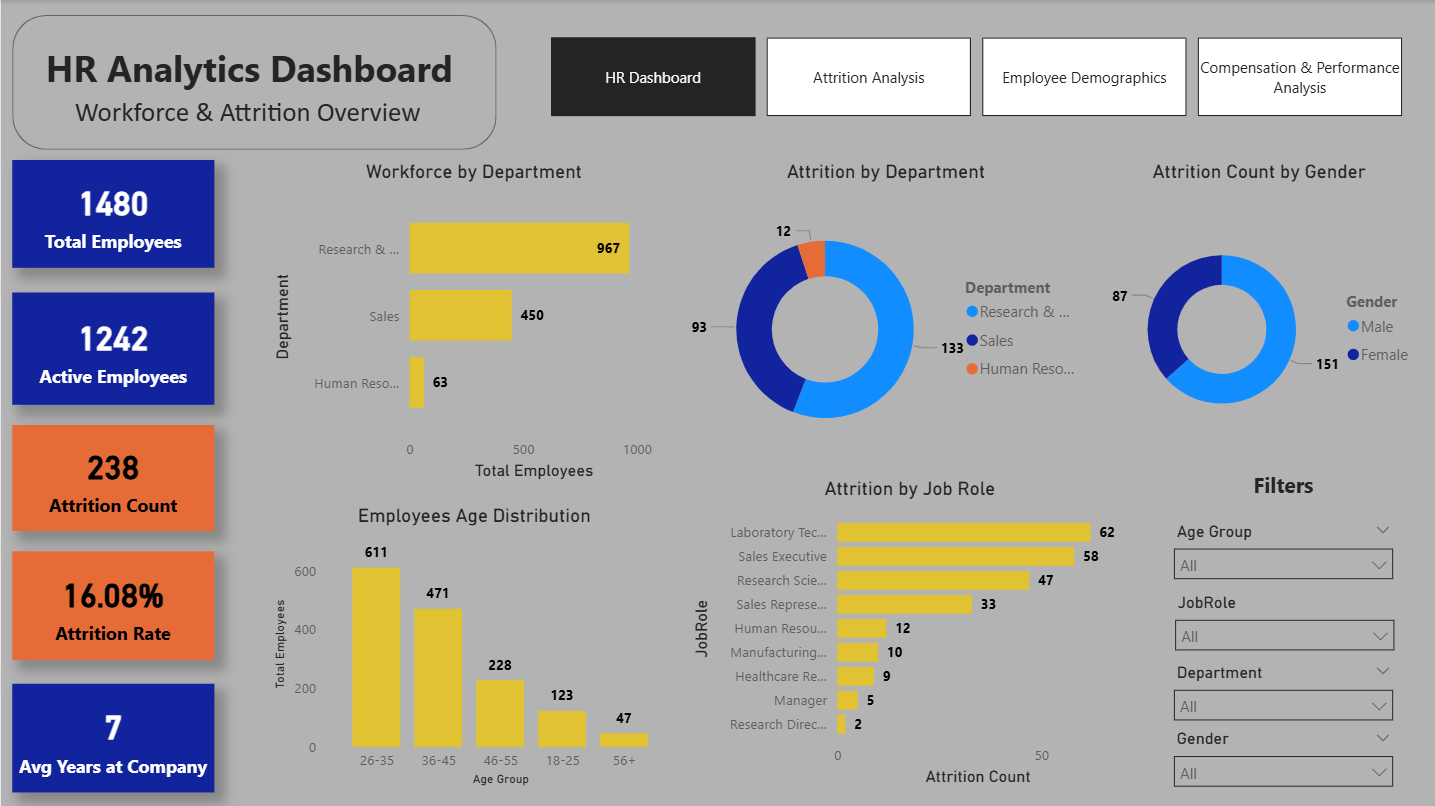

The page's visual inventory and layout, read from the dashboard file:
{"tool":"powerbi","page":{"name":"HR Dashboard","canvas":[1280,720],"ordinal":0},"visuals":[{"type":"shape","box":[10,12.9,431.4,120],"z":0},{"type":"textbox","box":[21.4,32.9,400,61.4],"z":1000},{"type":"textbox","box":[57.1,80,325.7,45.7],"z":2000},{"type":"card","title":"Total Employees","fields":{"Values":["HR_Analytics.Total Employees"]},"box":[10,142.9,180,95.7],"z":3000},{"type":"card","fields":{"Values":["HR_Analytics.Attrition Count"]},"box":[10,378.6,180,94.3],"z":4000},{"type":"card","fields":{"Values":["HR_Analytics.Attrition Rate"]},"box":[10,491.4,180,97.1],"z":5000},{"type":"card","fields":{"Values":["HR_Analytics.Average Years at Company"]},"box":[10,608.6,180,97.1],"z":6000},{"type":"donutChart","title":"Attrition by Department","fields":{"Category":["HR_Analytics.Department"],"Y":["HR_Analytics.Attrition Count"]},"box":[604.3,142.9,367.1,282.9],"z":7000},{"type":"donutChart","fields":{"Category":["HR_Analytics.Gender"],"Y":["HR_Analytics.Attrition Count"]},"box":[971.4,142.9,297.1,282.9],"z":8000},{"type":"clusteredColumnChart","title":"Employees Age Distribution","fields":{"Category":["HR_Analytics.Age Group"],"Y":["HR_Analytics.Total Employees"]},"box":[238.3,448.3,366.7,256.7],"z":9000},{"type":"clusteredBarChart","title":"Attrition by Job Role","fields":{"Category":["HR_Analytics.JobRole"],"Y":["HR_Analytics.Attrition Count"]},"box":[611.7,425,396.7,280],"z":10000},{"type":"clusteredBarChart","title":"Workforce by Department","fields":{"Category":["HR_Analytics.Department"],"Y":["HR_Analytics.Total Employees"]},"box":[238.6,142.9,365.7,290],"z":11000},{"type":"slicer","fields":{"Values":["HR_Analytics.Department"]},"box":[1034.3,585.7,215.7,62.9],"z":12000},{"type":"slicer","fields":{"Values":["HR_Analytics.Gender"]},"box":[1034.3,644.3,215.7,61.4],"z":13000},{"type":"slicer","fields":{"Values":["HR_Analytics.JobRole"]},"box":[1035.7,522.9,215.7,62.9],"z":14000},{"type":"slicer","fields":{"Values":["HR_Analytics.Age Group"]},"box":[1034.3,460,215.7,62.9],"z":15000},{"type":"card","fields":{"Values":["HR_Analytics.Active Employees"]},"box":[10,260,180,100],"z":16000},{"type":"pageNavigator","box":[490,32.9,760,70],"z":17000},{"type":"textbox","box":[1034.3,414.3,215.7,45.7],"z":18000}]}

Visuals, with their boxes in screenshot pixels (x1, y1, x2, y2), scaled from the page's 1280x720 canvas onto the 1435x806 screenshot:
shape: 11 14 495 149
textbox: 24 37 472 106
textbox: 64 90 429 141
"Total Employees" card: 11 160 213 267
card - HR_Analytics.Attrition Count: 11 424 213 529
card - HR_Analytics.Attrition Rate: 11 550 213 659
card - HR_Analytics.Average Years at Company: 11 681 213 790
"Attrition by Department" donutChart: 677 160 1089 477
donutChart - HR_Analytics.Gender x HR_Analytics.Attrition Count: 1089 160 1422 477
"Employees Age Distribution" clusteredColumnChart: 267 502 678 789
"Attrition by Job Role" clusteredBarChart: 686 476 1131 789
"Workforce by Department" clusteredBarChart: 267 160 677 485
slicer - HR_Analytics.Department: 1160 656 1401 726
slicer - HR_Analytics.Gender: 1160 721 1401 790
slicer - HR_Analytics.JobRole: 1161 585 1403 656
slicer - HR_Analytics.Age Group: 1160 515 1401 585
card - HR_Analytics.Active Employees: 11 291 213 403
pageNavigator: 549 37 1401 115
textbox: 1160 464 1401 515
